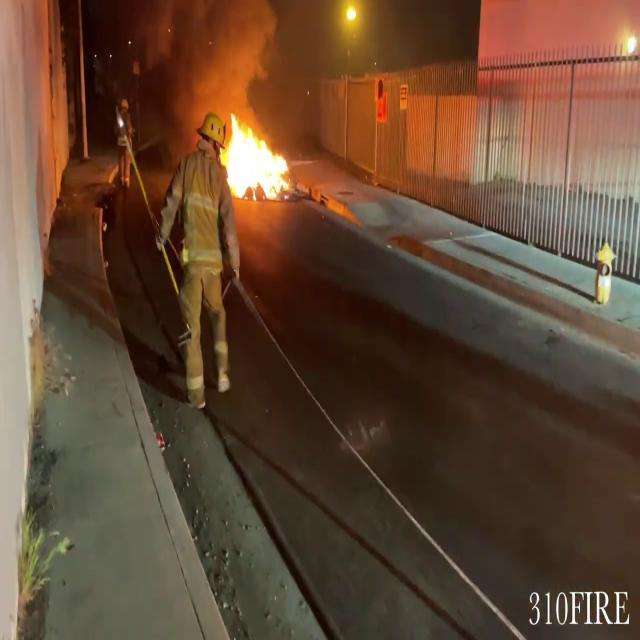Fire: (210, 109, 298, 208)
Smoke: (144, 2, 278, 143)
